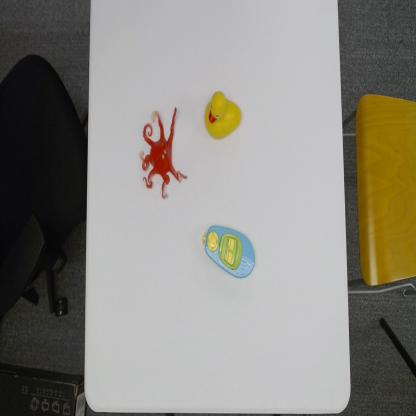Boat: (201, 223, 257, 281)
Duck: (203, 87, 243, 142)
Octopus: (136, 106, 190, 200)
